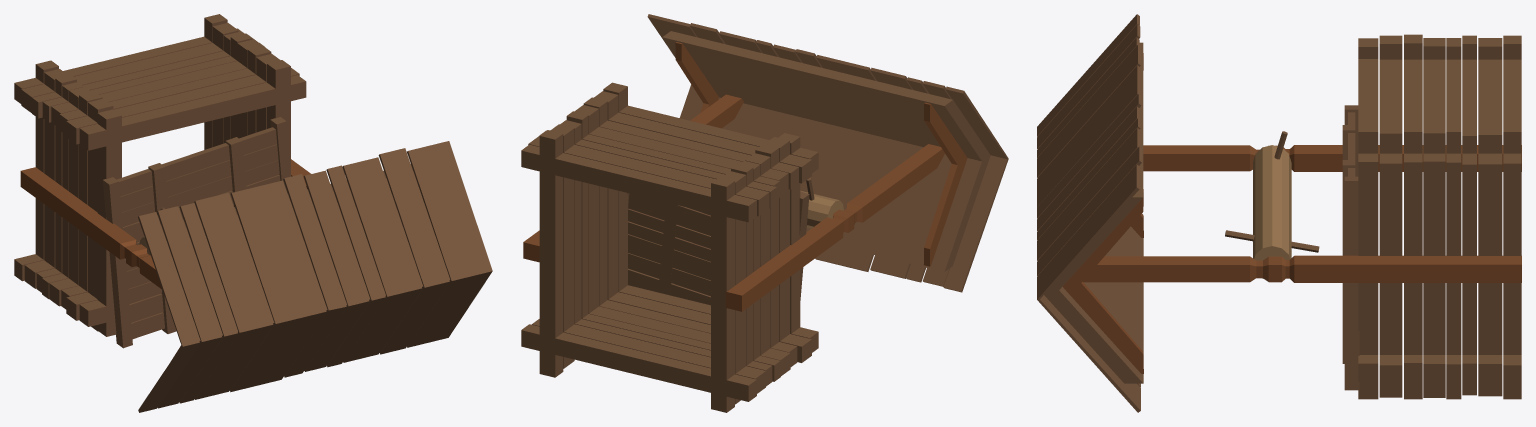
The model's file is Well.fbx.
3 renders of one model, left to right at view 1: azimuth 30°, elevation 25°; view 2: azimuth 150°, elevation 25°; view 3: azimuth 270°, elevation 25°, orthographic. The views are drawn at different scales.
Parts seen in each view (by area): view 1: puit; view 2: puit; view 3: puit.
Boxes of the visible parts, bbox=[...] form: puit: bbox=[14, 14, 492, 412]; puit: bbox=[521, 14, 1008, 412]; puit: bbox=[1037, 14, 1521, 412].
Size of the model in its own units: 237 by 172 by 281.
